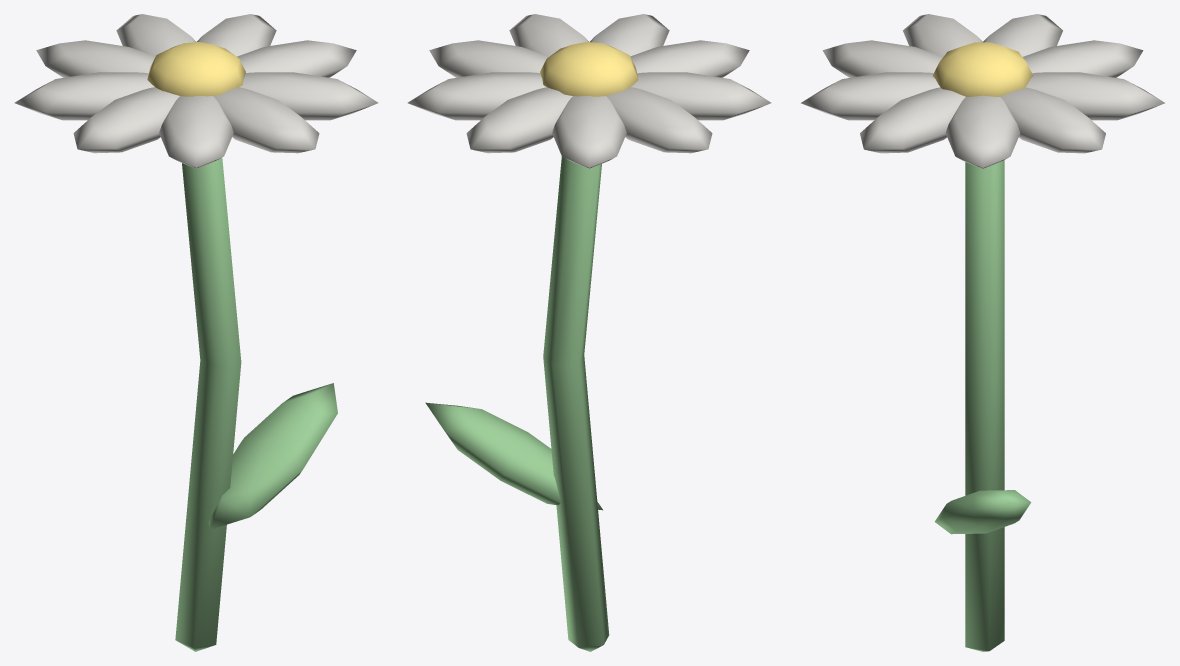
File: flower_margarida.glb
3 renders of one model, left to right at view 1: azimuth 30°, elevation 25°; view 2: azimuth 150°, elevation 25°; view 3: azimuth 270°, elevation 25°, orthographic.
Visible parts, largest first — view 1: flower_margarida; view 2: flower_margarida; view 3: flower_margarida.
Part boxes in pixels (x1,y1,x2,y2): flower_margarida: [14, 14, 378, 651]; flower_margarida: [407, 14, 771, 651]; flower_margarida: [801, 14, 1164, 651].
Bounding box in the file's own units: 0.2483 × 0.46 × 0.2521.
